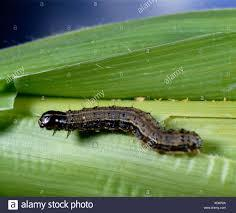fallarmy_worm: (34, 100, 213, 158)
